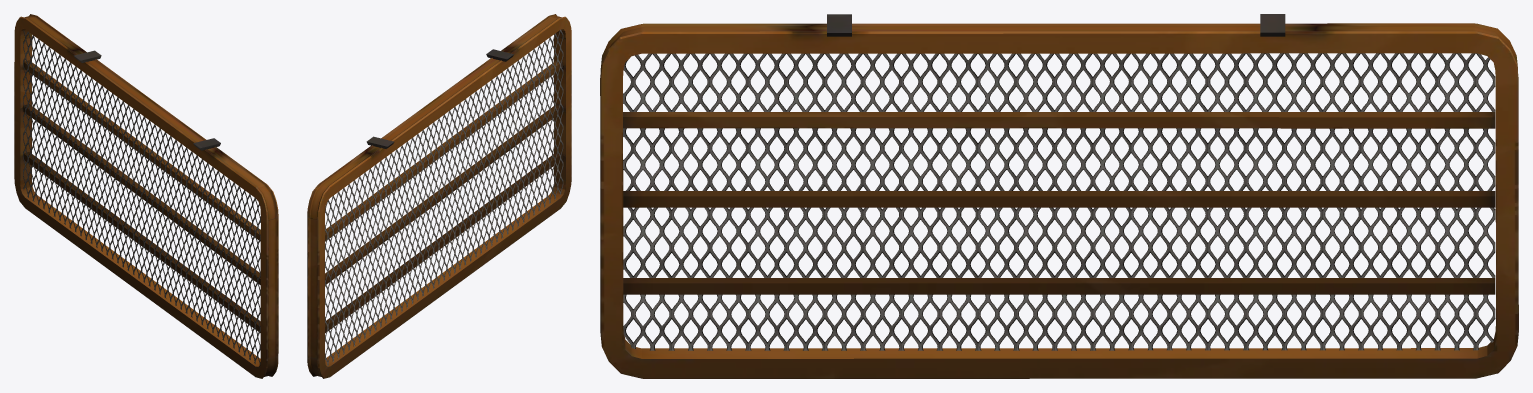
3 views of the same model, side by side, from view 1: azimuth 30°, elevation 25°; view 2: azimuth 150°, elevation 25°; view 3: azimuth 270°, elevation 25° (orthographic). The views are drawn at different scales.
Visible parts, largest first — view 1: body0_model0_lod0_mesh1, body0_model0_lod0_mesh0; view 2: body0_model0_lod0_mesh1, body0_model0_lod0_mesh0; view 3: body0_model0_lod0_mesh1, body0_model0_lod0_mesh0.
Part boxes in pixels (x1,y1,x2,y2): body0_model0_lod0_mesh1: (14, 14, 278, 378); body0_model0_lod0_mesh0: (23, 30, 260, 364); body0_model0_lod0_mesh1: (307, 14, 571, 378); body0_model0_lod0_mesh0: (325, 29, 563, 365); body0_model0_lod0_mesh1: (600, 14, 1518, 378); body0_model0_lod0_mesh0: (623, 53, 1495, 350).
Size of the model in its own units: 9.05 by 79.03 by 187.
2 materials, 2 textured.
